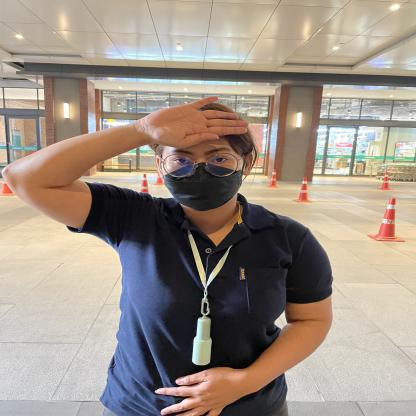Sick: (120, 72, 280, 154)
